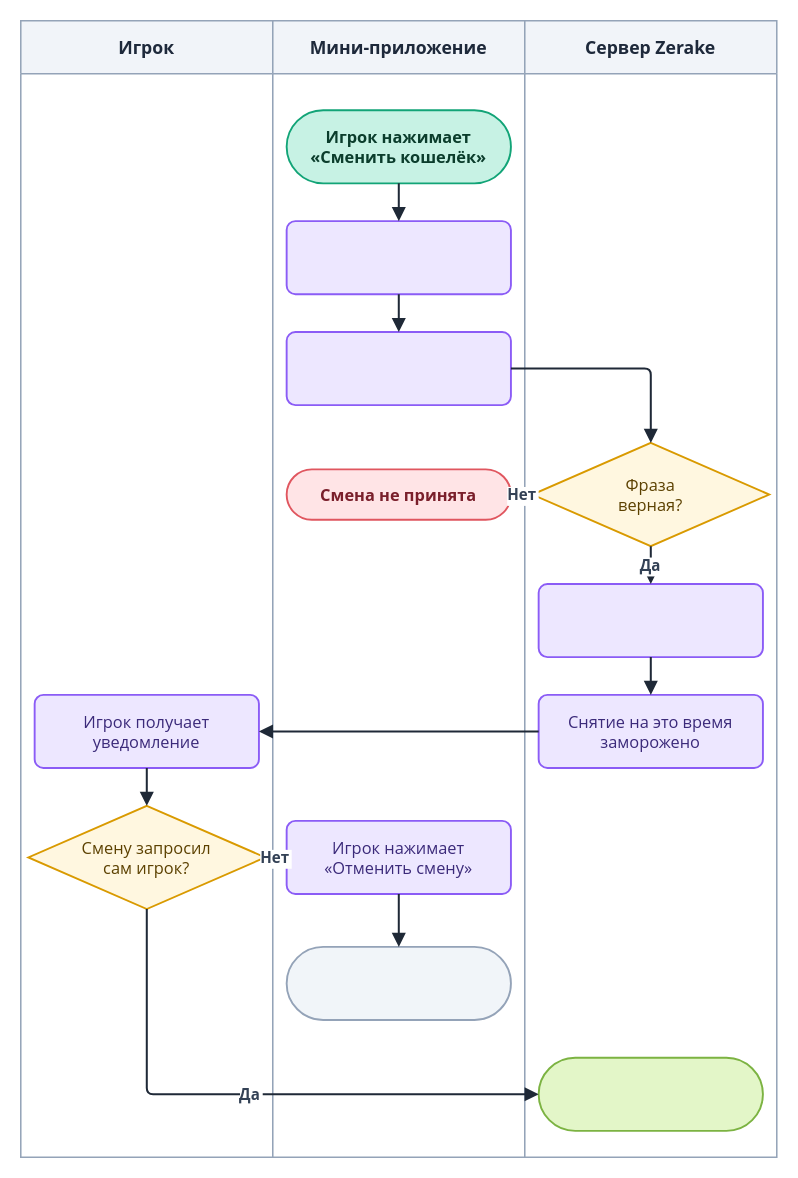
Some shapes in this 798 by 1178 pixel diagram are drawn without their labels. Each missing label, with the centre of its shape:
"Игрок вводит новый адрес" belongs at pixel 398 257.
"Игрок вводит секретную фразу" belongs at pixel 398 367.
"Остаётся прежний кошелёк" belongs at pixel 398 982.
"Привязан новый кошелёк" belongs at pixel 650 1093.
"Смена ждёт 48 часов" belongs at pixel 650 619.
